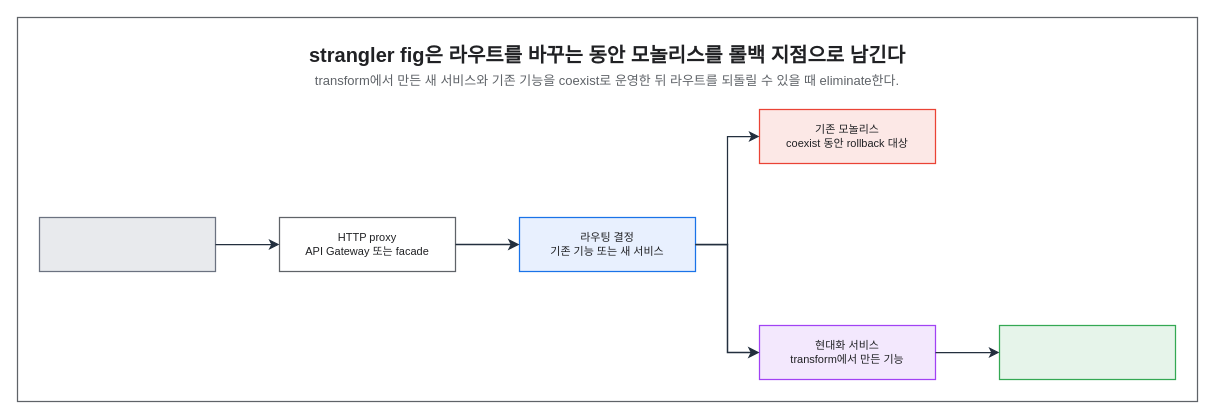
Some shapes in this 1216 by 420 pixel diagram are drawn without their labels. The centre of each missing label's shape, as x and y in pixels:
"새 데이터 저장소 서비스별 소유 경계" belongs at point 1087,352.
"외부 호출자 같은 HTTPS endpoint" belongs at point 127,244.
